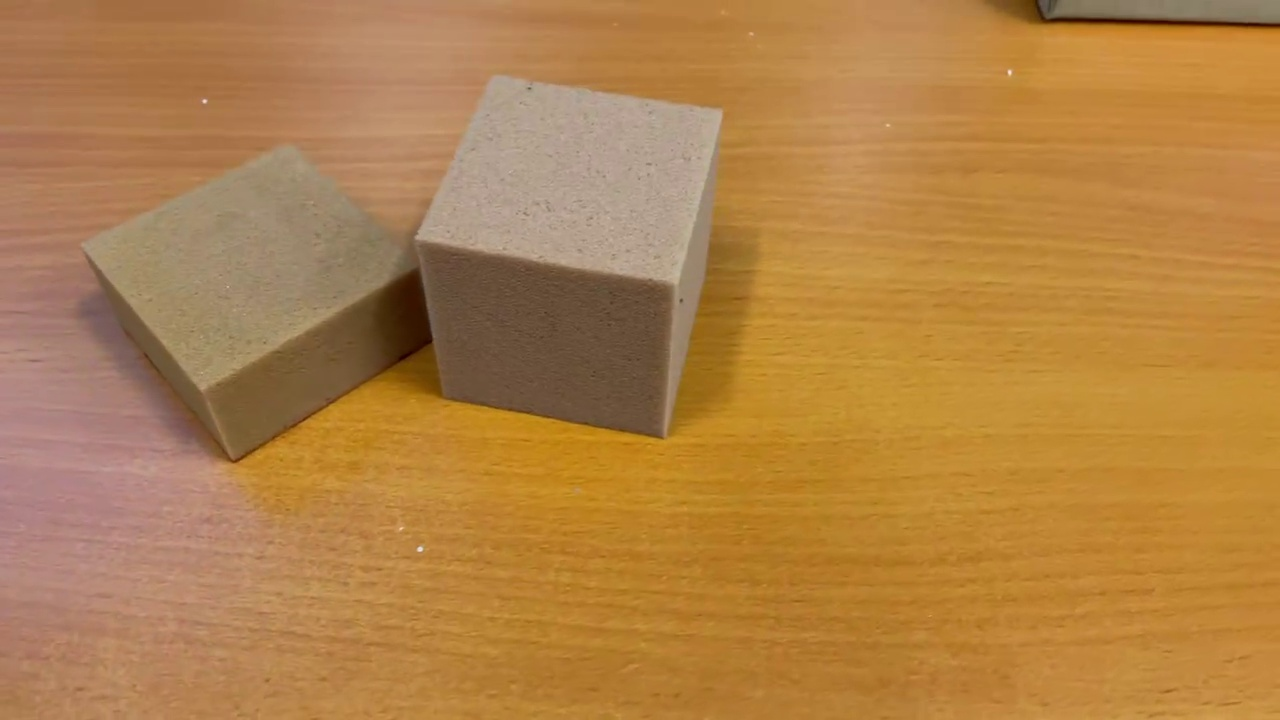Cube: (412, 70, 726, 440)
Cube_short: (77, 136, 435, 470)
